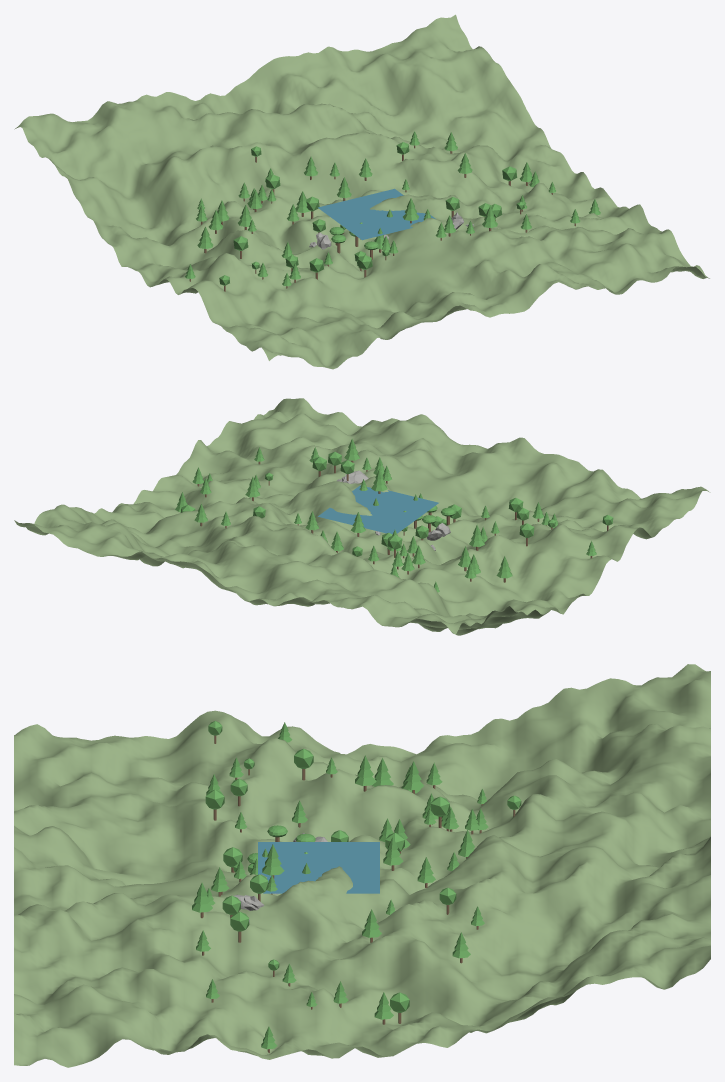
Rendered from land_forest.glb.
3 renders of one model, top to bottom at view 1: azimuth 30°, elevation 25°; view 2: azimuth 150°, elevation 25°; view 3: azimuth 270°, elevation 25°, orthographic. The views are drawn at different scales.
Visible parts, largest first — view 1: ground, plants, water, trunks; view 2: ground, plants, water, rocks, trunks; view 3: ground, plants, water, trunks.
Part boxes in pixels (x1,y1,x2,y2): ground: (14, 14, 709, 369); plants: (185, 131, 600, 286); water: (318, 188, 435, 240); trunks: (189, 145, 575, 291); ground: (14, 398, 710, 635); plants: (175, 439, 613, 592); water: (318, 485, 438, 534); rocks: (337, 470, 450, 550); trunks: (197, 460, 608, 582); ground: (14, 664, 710, 1067); plants: (192, 721, 521, 1049); water: (258, 842, 379, 893); trunks: (200, 735, 515, 1053).
Bounding box in the file's own units: 80 × 15.42 × 80.
